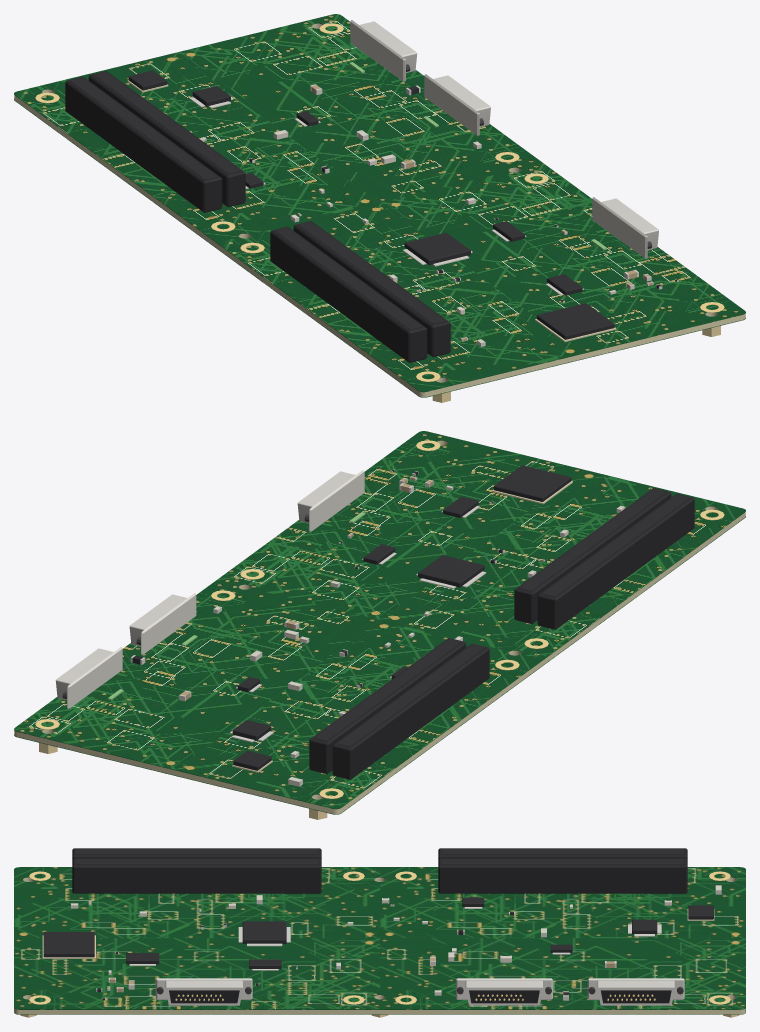
File: backplane.glb
The picture shows the model from 3 angles, top to bottom: view 1: azimuth 30°, elevation 25°; view 2: azimuth 150°, elevation 25°; view 3: azimuth 270°, elevation 25°; orthographic projection. The views are drawn at different scales.
Visible parts, largest first — view 1: backplane; view 2: backplane; view 3: backplane.
Boxes of the visible parts, left/top/right/bottom form: backplane: left=14, top=14, right=745, bottom=402; backplane: left=14, top=431, right=745, bottom=819; backplane: left=14, top=848, right=745, bottom=1017.
Bounding box in the file's own units: 0.092 × 0.0136 × 0.2.
11 materials, 1 textured.
